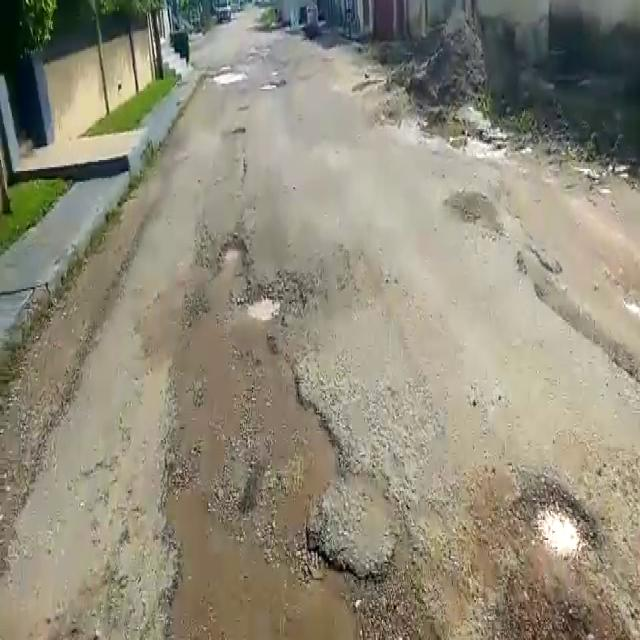Pothole: (520, 484, 603, 556), (246, 269, 305, 333), (217, 232, 250, 272)
